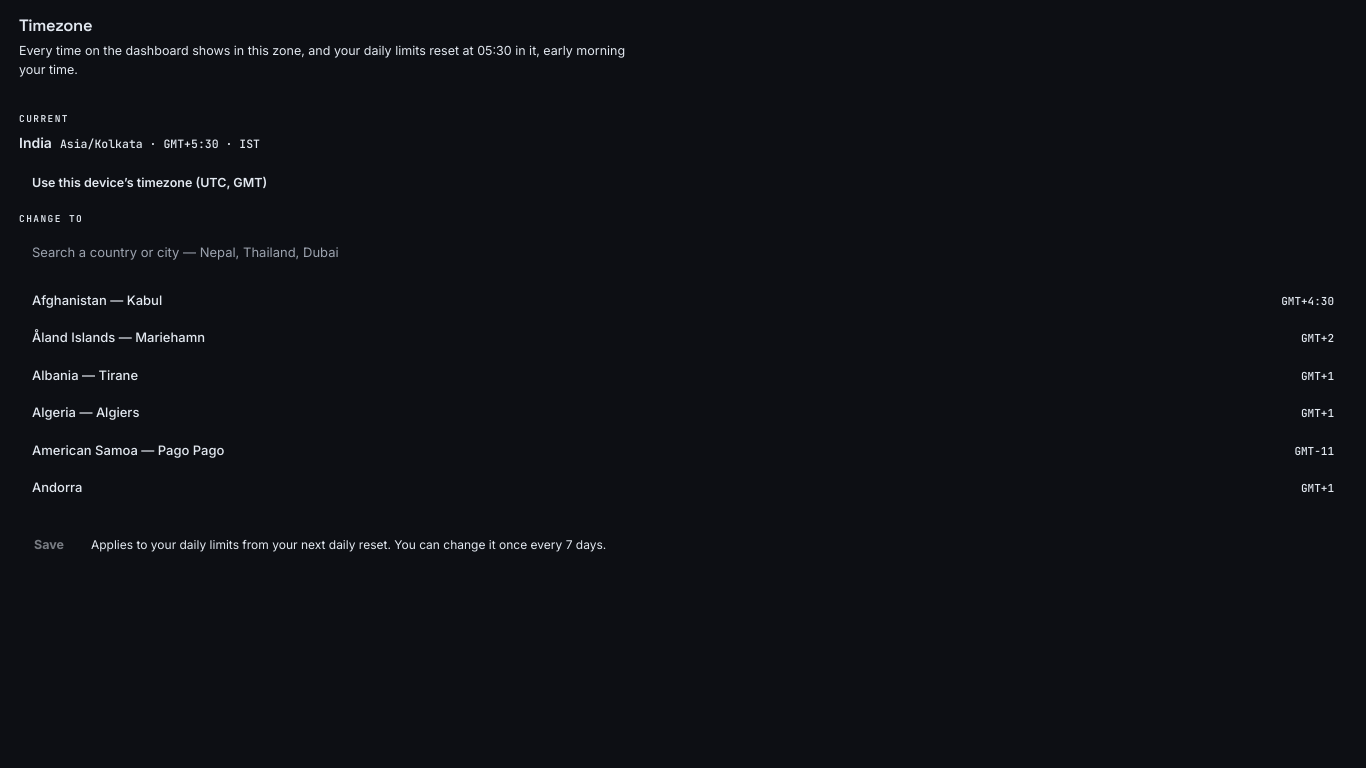
Test: timezone preference › filters the list as you type, by city
Type "new york" into the search field labelled "Change to" at (683,253), box [19,232,1347,274]
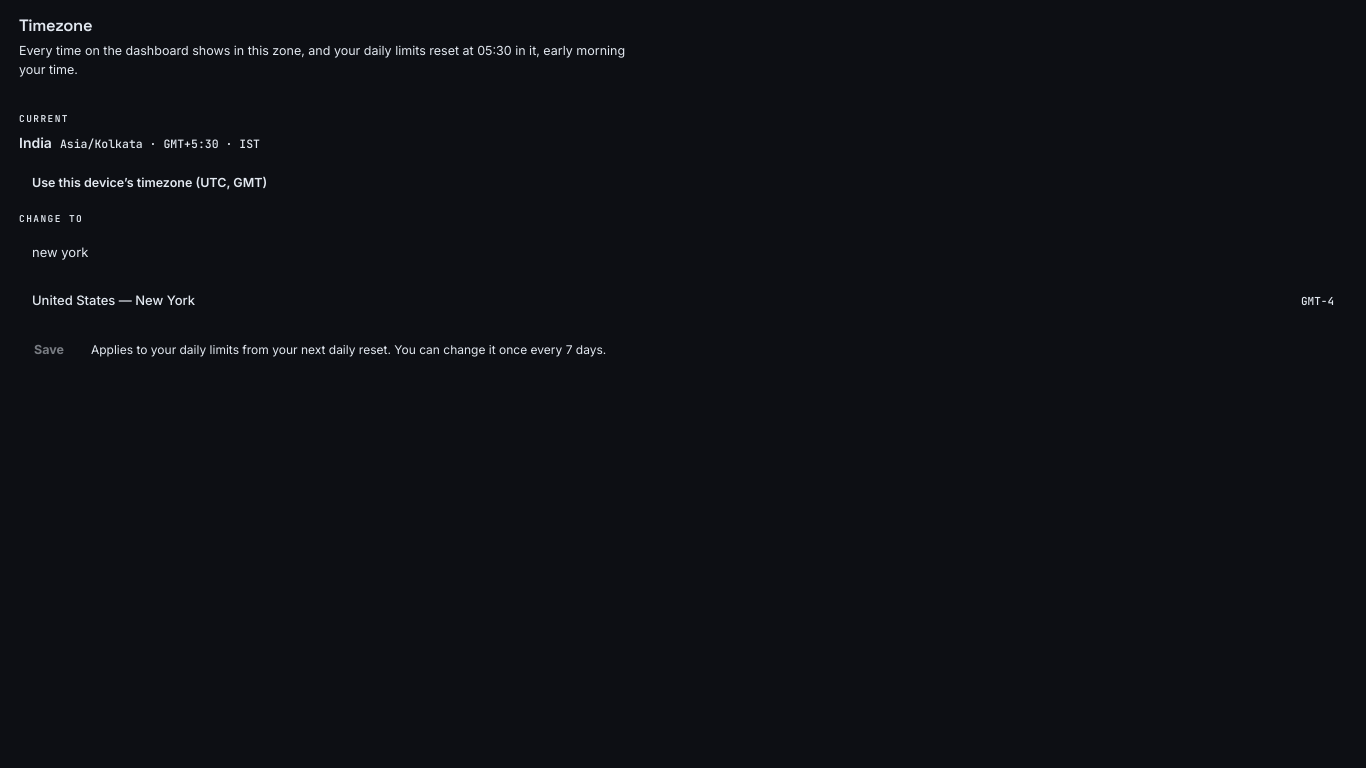
Expected: the option "Dubai" is not shown
Expected: the option "United States — New York GMT-4" is shown, [19,282,1347,319]
